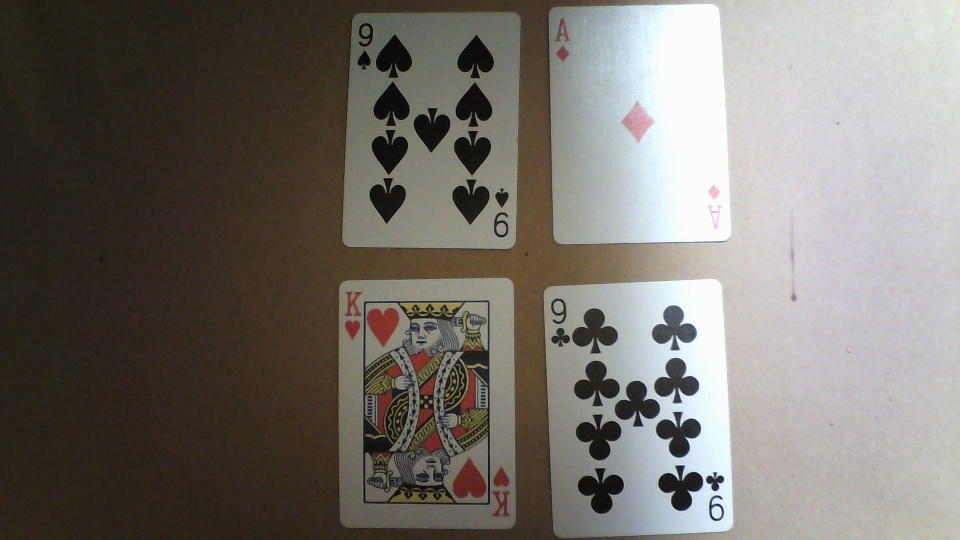ace: (547, 3, 733, 246)
king: (339, 276, 518, 529)
nine: (542, 279, 736, 537), (344, 10, 518, 248)
